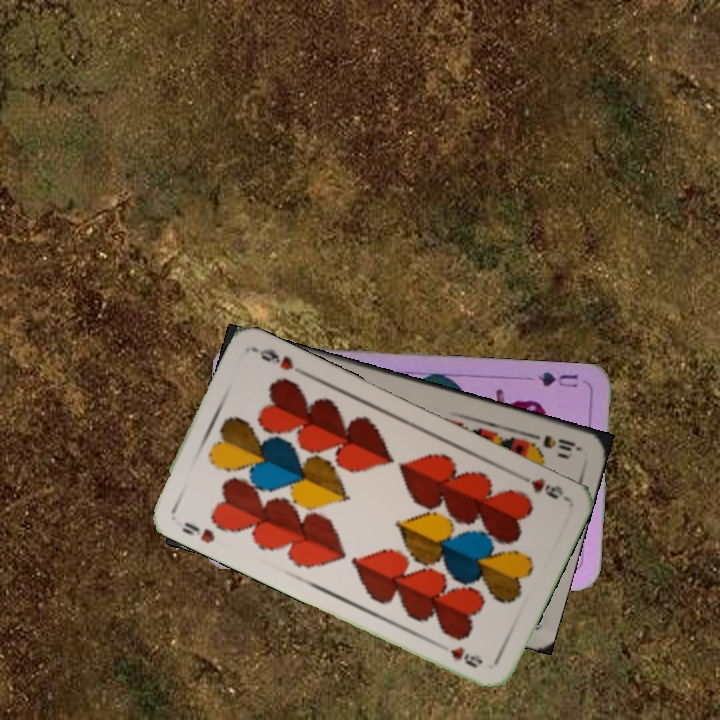GU: (534, 368, 580, 390)
H9: (513, 470, 566, 502), (178, 518, 218, 546)
S10: (524, 429, 583, 454)
